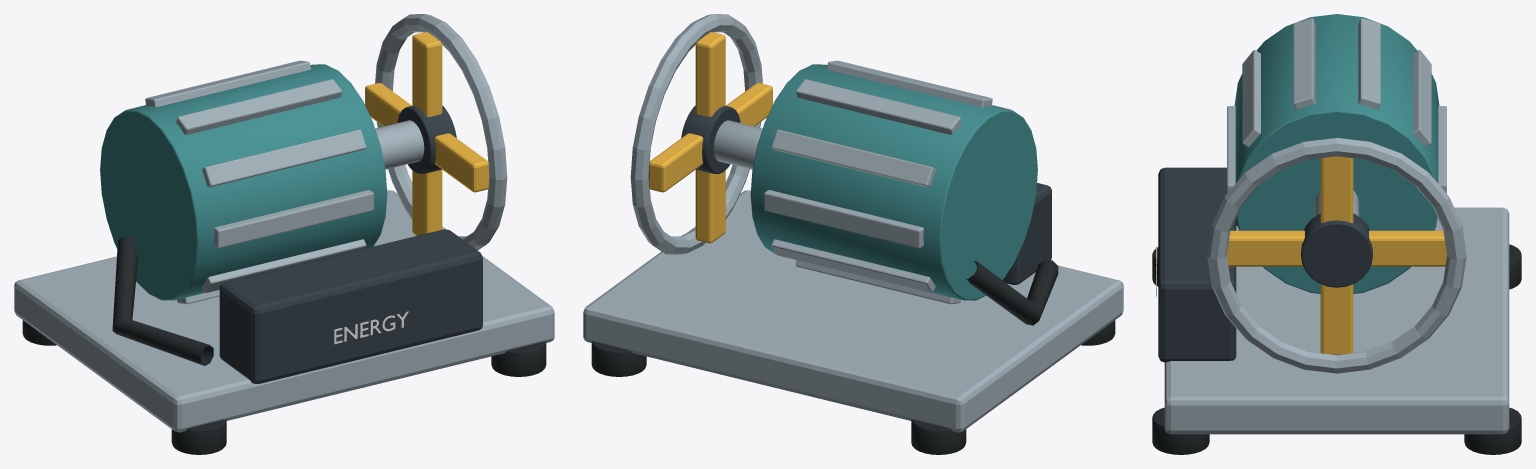
The model's file is energy.glb.
3 renders of one model, left to right at view 1: azimuth 30°, elevation 25°; view 2: azimuth 150°, elevation 25°; view 3: azimuth 270°, elevation 25°, orthographic. The views are drawn at different scales.
Parts seen in each view (by area): view 1: Motor case, Mounting plate, Meter housing, Fan guard, Supply cable, Cooling fin.005, Cooling fin.004, Cooling fin.003, Fan blade.001, Fan blade.002, Cooling fin.002, Fan blade.003 (+7 smaller); view 2: Mounting plate, Motor case, Fan guard, Cooling fin, Cooling fin.001, Cooling fin.002, Supply cable, Cooling fin.009, Fan blade.001, Meter housing, Fan blade.003, Fan blade (+7 smaller); view 3: Mounting plate, Motor case, Fan guard, Meter housing, Fan hub, Fan blade, Fan blade.002, Fan blade.003, Fan blade.001, Cooling fin.002, Cooling fin.003, Cooling fin.001 (+6 smaller).
Boxes of the visible parts, bbox=[...] form: Motor case: bbox=[100, 64, 387, 300]; Mounting plate: bbox=[14, 190, 554, 432]; Meter housing: bbox=[219, 229, 482, 383]; Fan guard: bbox=[375, 14, 507, 250]; Supply cable: bbox=[112, 237, 213, 365]; Cooling fin.005: bbox=[214, 190, 373, 248]; Cooling fin.004: bbox=[202, 129, 366, 187]; Cooling fin.003: bbox=[176, 79, 341, 134]; Fan blade.001: bbox=[412, 32, 442, 116]; Fan blade.002: bbox=[434, 133, 489, 192]; Cooling fin.002: bbox=[145, 60, 310, 107]; Fan blade.003: bbox=[412, 169, 442, 235]; Mounting plate: bbox=[583, 190, 1123, 432]; Motor case: bbox=[750, 64, 1037, 300]; Fan guard: bbox=[630, 14, 762, 254]; Cooling fin: bbox=[764, 190, 923, 248]; Cooling fin.001: bbox=[771, 129, 935, 187]; Cooling fin.002: bbox=[796, 79, 961, 134]; Supply cable: bbox=[966, 259, 1058, 325]; Cooling fin.009: bbox=[771, 239, 935, 292]; Fan blade.001: bbox=[695, 32, 725, 116]; Meter housing: bbox=[1003, 183, 1051, 284]; Fan blade.003: bbox=[695, 169, 725, 243]; Fan blade: bbox=[648, 133, 703, 192]; Mounting plate: bbox=[1164, 207, 1509, 434]; Motor case: bbox=[1234, 14, 1439, 293]; Fan guard: bbox=[1207, 137, 1466, 373]; Meter housing: bbox=[1158, 167, 1236, 362]; Fan hub: bbox=[1301, 213, 1372, 287]; Fan blade: bbox=[1369, 230, 1446, 266]; Fan blade.002: bbox=[1227, 230, 1304, 266]; Fan blade.003: bbox=[1320, 284, 1353, 354]; Fan blade.001: bbox=[1320, 156, 1353, 223]; Cooling fin.002: bbox=[1358, 18, 1380, 109]; Cooling fin.003: bbox=[1293, 18, 1315, 109]; Cooling fin.001: bbox=[1413, 50, 1431, 147].
Size of the model in its own units: 0.56 by 0.408 by 0.45.
